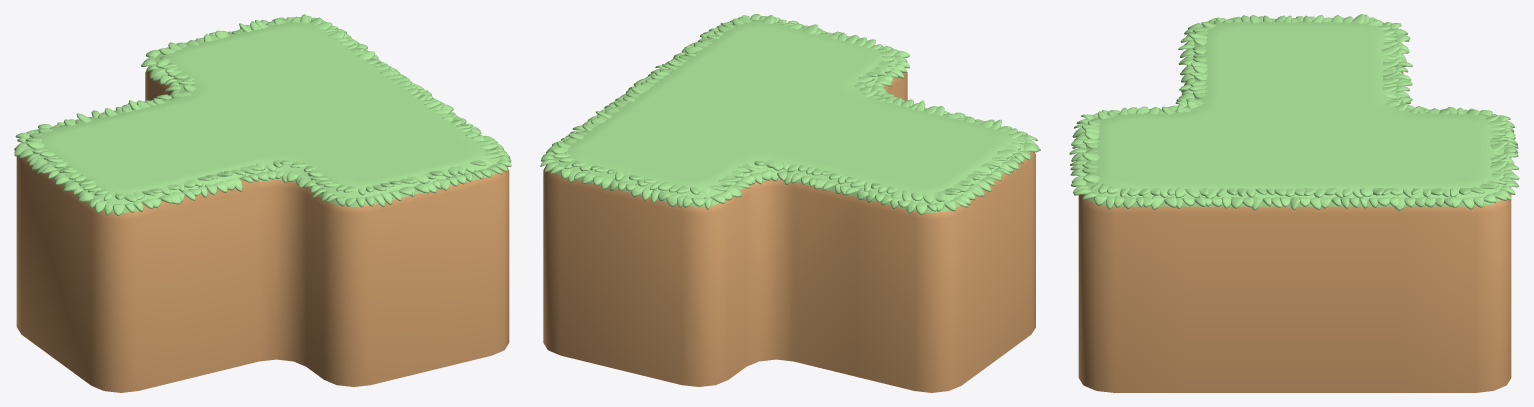
The model's file is Cliffs_4x4_T.fbx.
The picture shows the model from 3 angles, left to right: view 1: azimuth 30°, elevation 25°; view 2: azimuth 150°, elevation 25°; view 3: azimuth 270°, elevation 25°; orthographic projection. The views are drawn at different scales.
Visible parts, largest first — view 1: 4x4_T_Cliff, 4x4_T_Blades; view 2: 4x4_T_Cliff, 4x4_T_Blades; view 3: 4x4_T_Cliff, 4x4_T_Blades.
Boxes of the visible parts, x1,y1,x2,y2 form: 4x4_T_Cliff: [16, 20, 509, 392]; 4x4_T_Blades: [14, 14, 511, 215]; 4x4_T_Cliff: [543, 19, 1035, 392]; 4x4_T_Blades: [540, 14, 1040, 214]; 4x4_T_Cliff: [1078, 21, 1511, 392]; 4x4_T_Blades: [1069, 14, 1519, 210].
Bounding box in the file's own units: 417 × 205 × 416.
